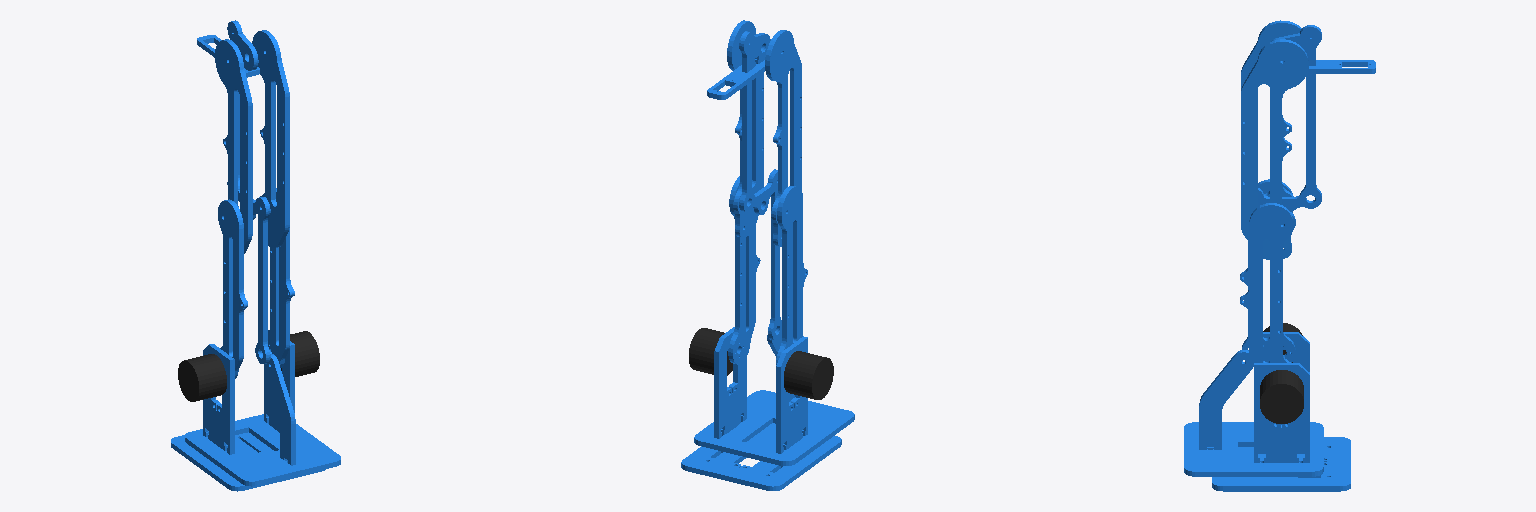
robot.urdf — dobot_arm_kickstarter:
<?xml version="0.0" ?>
<robot name="dobot_arm_kickstarter">
  <!-- URDF copyright [author] for http://pybullet.org -->
  <link name="baseLink">
    <inertial>
      <origin rpy="0 0 0" xyz="0 0 0"/>
       <mass value=".5"/>
       <inertia ixx="0.1" ixy="0" ixz="0" iyy="0.1" iyz="0" izz="0.1"/>
    </inertial>
    <visual>
      <origin rpy="0 0 0" xyz="0 0 0"/>
             <geometry>
        <mesh filename="cad/Dobot/A3.stl" scale="1 1 1"/>
      </geometry>
       <material name="blue">
        <color rgba="0.2 0.6 1 1"/>
      </material>
    </visual>
    
    <collision>
      <origin rpy="0 -1.570796 0" xyz="0 0 0"/>
      <geometry>
      <box size="0.005  0.125 0.105"/>
      </geometry>
    </collision>
  </link>
   <link name="linkA">
    <inertial>
      <origin rpy="0 0 0" xyz="0 0 0"/>
      <mass value=".3"/>
      <inertia ixx="0.048966669" ixy="0" ixz="0" iyy="0.046466667" iyz="0" izz="0.0041666669"/>
    </inertial>
    <visual>
      <origin rpy="0 0 0" xyz="0.0325 0 0"/>
      <geometry>
      <!--
        <box size="0.07  0.050 0.11"/>
        <box size="0.005  0.05 0.11"/>
      -->
       <mesh filename="cad/Dobot/A1_2.stl" scale="1 1 1"/>
      </geometry>
	   <material name="blue"/>
	  </visual>
	   <visual>
      <origin rpy="0 0 0" xyz="-0.0325 0 0"/>
      <geometry>
       <mesh filename="cad/Dobot/A1_2.stl" scale="1 1 1"/>
      </geometry>
	   <material name="blue"/>
	  </visual>
	  <visual>
      <origin rpy="0 0 0" xyz="0.005 -0.047  0.01"/>
      <geometry>
       <mesh filename="cad/Dobot/A22.stl" scale="1 1 1"/>
      </geometry>
	   <material name="blue"/>
	  </visual>
	   <visual>
      <origin rpy="0 0 0" xyz="0 -0.0245 -0.045"/>
             <geometry>
        <mesh filename="cad/Dobot/A4.stl" scale="1 1 1"/>
      </geometry>
       <material name="blue"/>
    </visual>
    
     <collision>
       <origin rpy="0 0 0" xyz="0 0 0"/>
       <geometry>
          <box size="0.07  0.055 0.11"/>
       </geometry>
     </collision>
   </link>
   <joint name="joint_baseLink_childA" type="continuous">
    <parent link="baseLink"/>
    <child link="linkA"/>
	<dynamics damping="1.0" friction="0.0001"/>
    <origin xyz="0.0 0.0 0.06"/>
		<axis xyz="0 0 1"/>
  </joint>
  
   <link name="motorA">
    <inertial>
      <origin rpy="0 1.57 0" xyz="0 0 0"/>
      <mass value=".1"/>
      <inertia ixx="0.048966669" ixy="0" ixz="0" iyy="0.046466667" iyz="0" izz="0.0041666669"/>
    </inertial>
    <visual>
      <origin rpy="0 1.57 0" xyz="0 0 0"/>
      <geometry>
        <cylinder length="0.03" radius="0.02"/>
      </geometry>
	   <material name="black">
	   <color rgba="0.2 0.2 0.2 1"/>
	   </material>
	  </visual>
     <collision>
       <origin rpy="0 1.57 0" xyz="0 0 0"/>
      <geometry>
        <cylinder length="0.03" radius="0.02"/>
      </geometry>
     </collision>
   </link>
   
    <joint name="joint_linkAmotorA" type="continuous">
    <parent link="linkA"/>
    <child link="motorA"/>
	<dynamics damping="1.0" friction="0.0001"/>
    <origin xyz="0.05 0.0 0.03"/>
    <axis xyz="1 0 0"/>
  </joint>
  
   <link name="motorB">
    <inertial>
      <origin rpy="0 1.57 0" xyz="0 0 0"/>
      <mass value=".1"/>
      <inertia ixx="0.048966669" ixy="0" ixz="0" iyy="0.046466667" iyz="0" izz="0.0041666669"/>
    </inertial>
    <visual>
      <origin rpy="0 1.57 0" xyz="0 0 0"/>
      <geometry>
        <cylinder length="0.03" radius="0.02"/>
      </geometry>
	   <material name="black">
	   <color rgba="0.2 0.2 0.2 1"/>
	   </material>
	  </visual>
     <collision>
       <origin rpy="0 1.57 0" xyz="0 0 0"/>
      <geometry>
        <cylinder length="0.03" radius="0.02"/>
      </geometry>
     </collision>
   </link>
   
    <joint name="joint_linkAmotorB" type="continuous">
    <parent link="linkA"/>
    <child link="motorB"/>
	<dynamics damping="1.0" friction="0.0001"/>
    <origin xyz="-0.05 0.0 0.03"/>
    <axis xyz="-1 0 0"/>
  </joint>
  
   <link name="linkA9">
    <inertial>
      <origin rpy="0 0 0" xyz="0 0 0.075"/>
      <mass value=".1"/>
      <inertia ixx="0.048966669" ixy="0" ixz="0" iyy="0.046466667" iyz="0" izz="0.0041666669"/>
    </inertial>
    <visual>
      <origin rpy="0 0 0" xyz="0 0 0.075"/>
      <geometry>
        <mesh filename="cad/Dobot/A9.stl" scale="1 1 1"/>
      </geometry>
	   <material name="blue"/>
	  </visual>
     <collision>
       <origin rpy="0 0 0" xyz="0 0 0.07"/>
       <geometry>
          <box size="0.005 0.02 0.18"/>
       </geometry>
     </collision>
   </link>
   
   <joint name="joint_linkAlinkA9" type="continuous">
    <parent link="linkA"/>
    <child link="linkA9"/>
	<dynamics damping="1.0" friction="0.0001"/>
    <origin xyz="0 -0.026 0.054"/>
		<axis xyz="1 0 0"/>
  </joint>
  
  
   
    <link name="linkB">
    <inertial>
      <origin rpy="0 0 0" xyz="0 0 0.075"/>
      <mass value=".1"/>
      <inertia ixx="0.048966669" ixy="0" ixz="0" iyy="0.046466667" iyz="0" izz="0.0041666669"/>
    </inertial>
    <visual>
      <origin rpy="1.570796 0 0" xyz="0.025 -0.012 0.077"/>
      <geometry>
        <!-- <box size="0.036  0.036 0.150"/> -->
        <!-- <box size="0.005  0.185 0.05"/>-->
        <mesh filename="cad/Dobot/A12_13.stl" scale="1 1 1"/>
      </geometry>
	   <material name="blue"/>
	  </visual>
	  <visual>
      <origin rpy="1.570796 0 0" xyz="-0.025 -0.012 0.077"/>
      <geometry>
        <!-- <box size="0.036  0.036 0.150"/> -->
        <!-- <box size="0.005  0.185 0.05"/>-->
        <mesh filename="cad/Dobot/A12_13.stl" scale="1 1 1"/>
      </geometry>
	   <material name="blue"/>
	  </visual>
     <collision>
       <origin rpy="0 0 0" xyz="0 0 0.075"/>
       <geometry>
          <box size="0.036  0.036 0.150"/>
       </geometry>
     </collision>
   </link>
   
   <joint name="joint_linkAlinkB" type="continuous">
    <parent link="linkA"/>
    <child link="linkB"/>
	<dynamics damping="1.0" friction="0.0001"/>
    <origin xyz="0 0.0 0.04"/>
		<axis xyz="1 0 0"/>
  </joint>
  
    <link name="linkC2">
    <inertial>
      <origin rpy="0 0 0" xyz="0 0 0.0"/>
      <mass value=".1"/>
      <inertia ixx="0.048966669" ixy="0" ixz="0" iyy="0.046466667" iyz="0" izz="0.0041666669"/>
    </inertial>
    <visual>
      <origin rpy="0 0 0" xyz="0 0 0"/>
      <geometry>
        <mesh filename="cad/Dobot/A11.stl" scale="1 1 1"/>
      </geometry>
	   <material name="blue"/>
	  </visual>
	   <collision>
       <origin rpy="0 0 0" xyz="0 0 0.0"/>
       <geometry>
          <box size="0.005  0.05 0.031"/>
       </geometry>
     </collision>
   </link>
   
    <joint name="joint_linkBlinkC2" type="continuous">
    <parent link="linkB"/>
    <child link="linkC2"/>
	<dynamics damping="1.0" friction="0.0001"/>
    <origin xyz="0.0 0.0 0.150"/>
		<axis xyz="1 0 0"/>
  </joint>
  
  <link name="linkC">
    <inertial>
      <origin rpy="0 0 0" xyz="0 0 0.08"/>
      <mass value=".1"/>
      <inertia ixx="0.048966669" ixy="0" ixz="0" iyy="0.046466667" iyz="0" izz="0.0041666669"/>
    </inertial>
    <visual>
      <origin rpy="1.570796 0 0" xyz="0.02 -0.005 0.07"/>
      <geometry>
        <!-- <box size="0.026  0.026 0.150"/> -->
        <!-- <box size="0.005  0.22 0.06"/> -->
        <mesh filename="cad/Dobot/A6_7.stl" scale="1 1 1"/>
      </geometry>
	   <material name="blue"/>
	  </visual>
	  <visual>
      <origin rpy="1.570796 0 0" xyz="-0.02 -0.005 0.07"/>
      <geometry>
        <!-- <box size="0.026  0.026 0.150"/> -->
        <!-- <box size="0.005  0.22 0.06"/> -->
        <mesh filename="cad/Dobot/A6_7.stl" scale="1 1 1"/>
      </geometry>
	   <material name="blue"/>
	  </visual>
     <collision>
       <origin rpy="0 0 0" xyz="0 0 0.075"/>
       <geometry>
          <box size="0.026  0.026 0.21"/>
       </geometry>
     </collision>
   </link>
   
    <joint name="joint_linkBlinkC" type="continuous">
    <parent link="linkB"/>
    <child link="linkC"/>
	<dynamics damping="1.0" friction="0.0001"/>
    <origin xyz="0.0 0.0 0.150"/>
		<axis xyz="1 0 0"/>
  </joint>

  <link name="linkD">
    <inertial>
      <origin rpy="0 0 0" xyz="0 0 0.02"/>
      <mass value=".1"/>
      <inertia ixx="0.048966669" ixy="0" ixz="0" iyy="0.046466667" iyz="0" izz="0.0041666669"/>
    </inertial>
    <visual>
      <origin rpy="0 0 0" xyz="0.0 0.011 0.0"/>
      <geometry>
        <!-- <box size="0.01  0.02 0.08"/> -->
        <!-- <box size="0.005  0.045 0.037"/> -->
        <mesh filename="cad/Dobot/A17.stl" scale="1 1 1"/>
      </geometry>
	   <material name="blue"/>
	  </visual>
	  <visual>
      <origin rpy="0 0 0" xyz="0.0 0. 0.0"/>
      <geometry>
        <mesh filename="cad/Dobot/A16.stl" scale="1 1 1"/>
      </geometry>
	   <material name="blue"/>
	  </visual>
	 	  
     <collision>
       <origin rpy="0 0 0" xyz="0.00 0.045 -0.017"/>
       <geometry>
          <box size="0.02  0.08 0.005"/>
       </geometry>
     </collision>
   </link>
   
    <joint name="joint_linkClinkD" type="continuous">
    <parent link="linkC"/>
    <child link="linkD"/>
	<dynamics damping="1.0" friction="0.0001"/>
    <!-- <origin xyz="0.0 0.00 0.160"/> -->
    <origin xyz="0.0 0.00 0.160"/>
		<axis xyz="1 0 0"/>
  </joint>

<link name="linkA10">
    <inertial>
      <origin rpy="0 0 0" xyz="0 0 0.08"/>
      <mass value=".1"/>
      <inertia ixx="0.048966669" ixy="0" ixz="0" iyy="0.046466667" iyz="0" izz="0.0041666669"/>
    </inertial>
    <visual>
      <origin rpy="0 0 0" xyz="0 0 0.08"/>
      <geometry>
        <mesh filename="cad/Dobot/A10.stl" scale="1 1 1"/>
      </geometry>
	   <material name="blue"/>
	  </visual>
     <collision>
       <origin rpy="0 0 0" xyz="0 0 0.08"/>
       <geometry>
          <box size="0.005 0.02 0.17"/>
       </geometry>
     </collision>
   </link>
   
   <joint name="joint_linkC2linkA10" type="continuous">
    <parent link="linkC2"/>
    <child link="linkA10"/>
	<dynamics damping="1.0" friction="0.0001"/>
    <origin xyz="0 0.026 0.014"/>
		<axis xyz="1 0 0"/>
  </joint>
  


  
</robot>


--- Facts derived from the render (not from the file) ---
The picture shows the robot from 3 angles, left to right: view 1: azimuth 30°, elevation 25°; view 2: azimuth 150°, elevation 25°; view 3: azimuth 270°, elevation 25°; orthographic projection.
Robot: dobot_arm_kickstarter — 10 links, 9 joints (9 continuous); root link baseLink; default pose: all joints at 0.
Links seen in each view (by area): view 1: linkA, linkC, linkB, motorB, linkA9, baseLink, motorA, linkD; view 2: linkA, linkC, linkB, baseLink, motorB, linkA10, linkD, linkA9, motorA; view 3: linkA, linkC, linkB, baseLink, motorA, linkA10, linkD.
Link boxes in pixels (x1,y1,x2,y2): linkA: (185,330,340,486); linkC: (215,30,289,253); linkB: (218,188,294,378); motorB: (178,354,226,401); linkA9: (255,197,270,363); baseLink: (171,432,325,491); motorA: (281,331,319,376); linkD: (197,29,259,77); linkA: (694,327,854,465); linkC: (727,20,801,246); linkB: (728,176,807,364); baseLink: (681,423,841,490); motorB: (784,351,833,399); linkA10: (739,31,754,212); linkD: (707,33,770,99); linkA9: (768,169,781,340); motorA: (689,328,732,375); linkA: (1184,332,1323,476); linkC: (1241,20,1308,259); linkB: (1240,179,1295,366); baseLink: (1212,437,1350,491); motorA: (1260,370,1303,423); linkA10: (1300,25,1321,208); linkD: (1271,33,1375,73).
Bounding box of the posed robot: 0.13 × 0.1718 × 0.4365 m (x, y, z).
Meshes: 11 distinct files referenced, 14 mesh visuals loaded (11 binary STL).